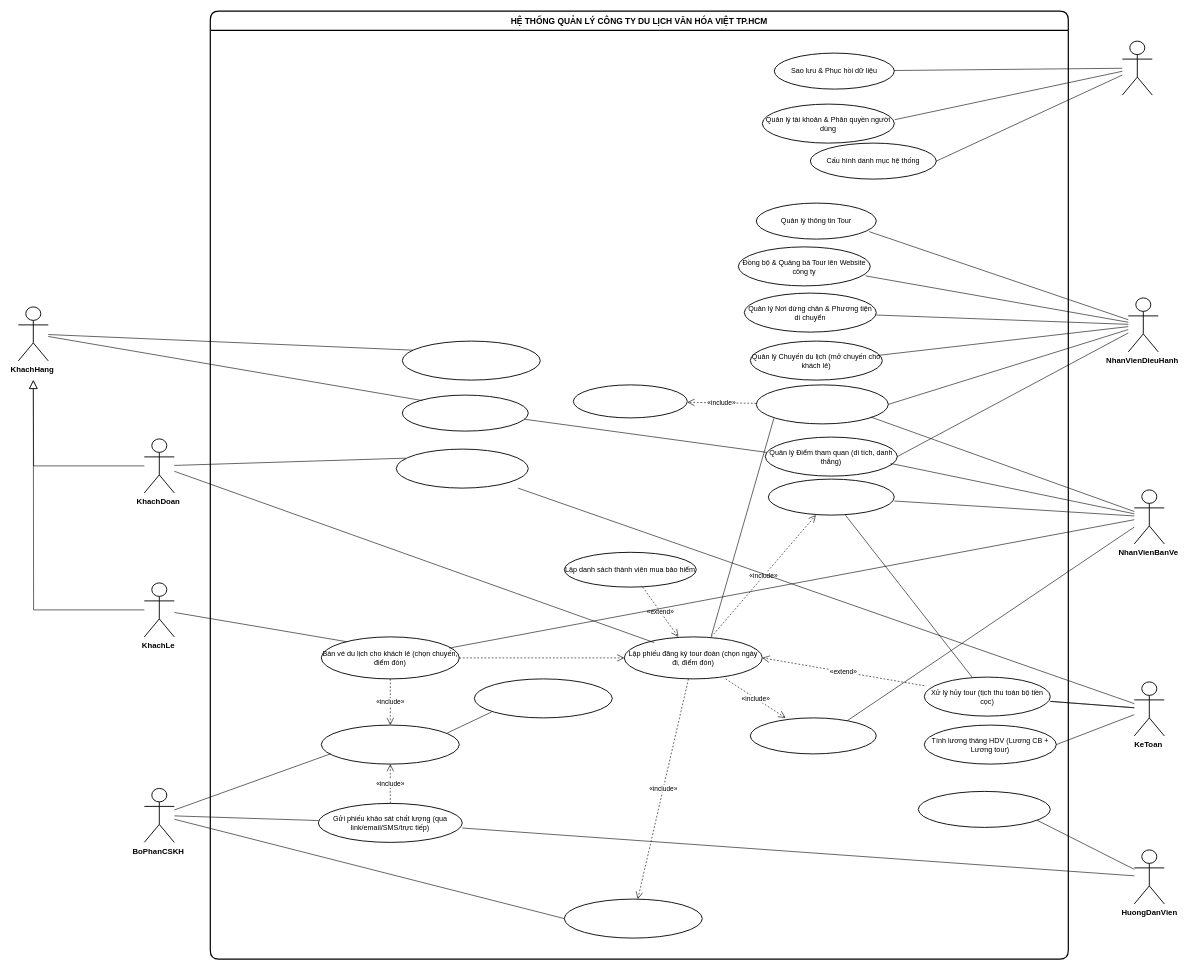
Image size: 1190x970. Some labels were removed from this diagram. Each missing label, with the centre of its shape:
Gửi thông báo xác nhận vé điện tử / link khảo sát: the point at 390,744
Kiểm tra xung đột lịch trình HDV: the point at 630,401
Lưu trữ & Khai thác dữ liệu khách hàng đoàn (CRM): the point at 633,918
Phân công HDV dẫn tour (chống trùng chéo lịch): the point at 822,404
QuanTriVien: the point at 1137,67
Quyết toán kinh phí đoàn sau khi hoàn thành tour: the point at 462,468
Thu tiền vé khách lẻ (thanh toán 100% ngay): the point at 813,735
Thu tiền đặt cọc đoàn (bắt buộc khi đăng ký): the point at 831,496
Tra cứu lịch công tác phân công của HDV: the point at 984,809
Tra cứu thông tin Tour & Lịch chuyến đi: the point at 465,412
Tổng hợp ý kiến góp ý & Báo cáo chất lượng tour: the point at 543,698
Điền phiếu khảo sát đánh giá & góp ý sau tour: the point at 471,360
